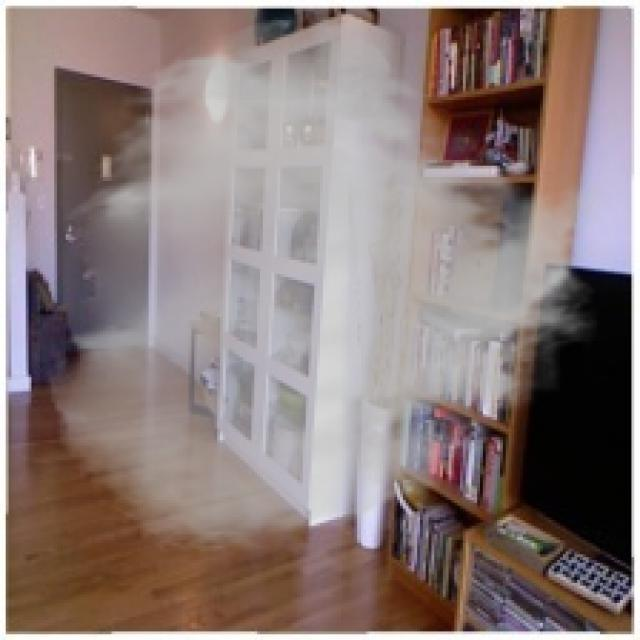Smoke: (46, 11, 612, 558)
